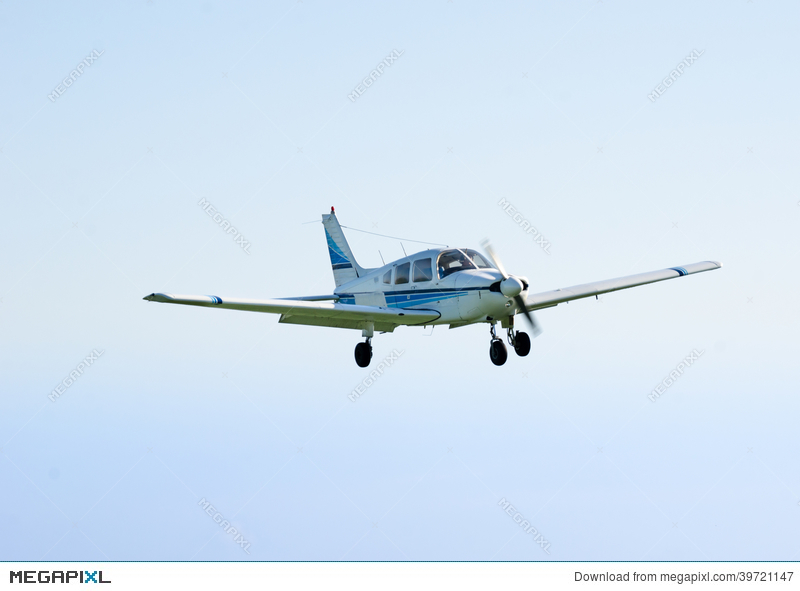plane: (143, 204, 722, 367)
